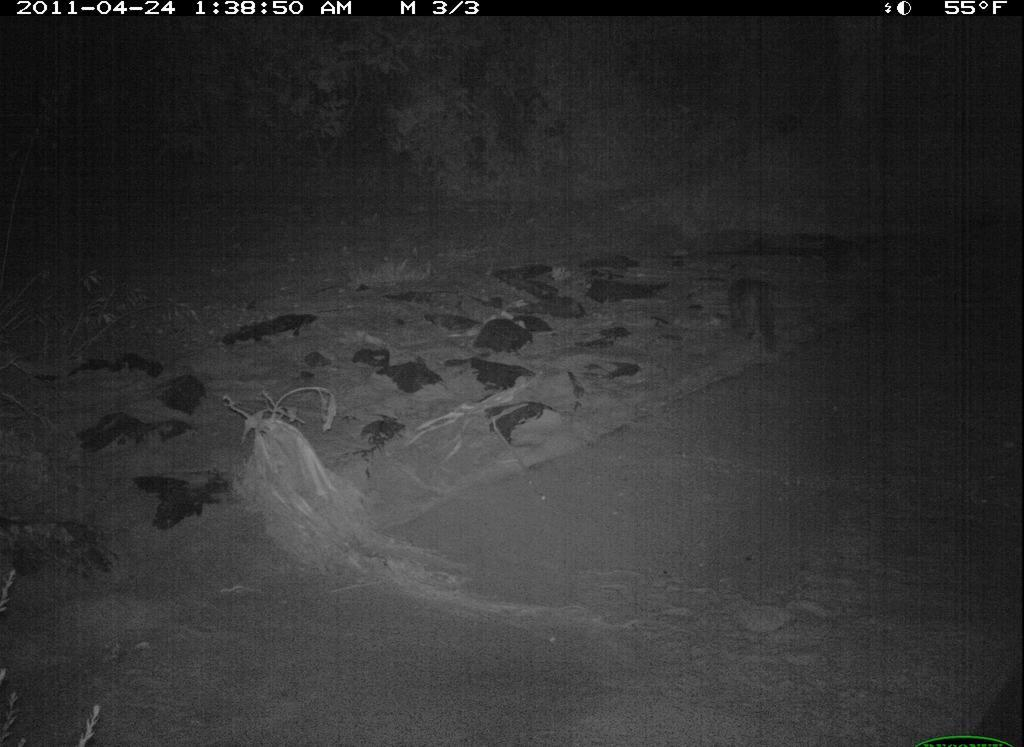cat: (711, 259, 786, 358)
